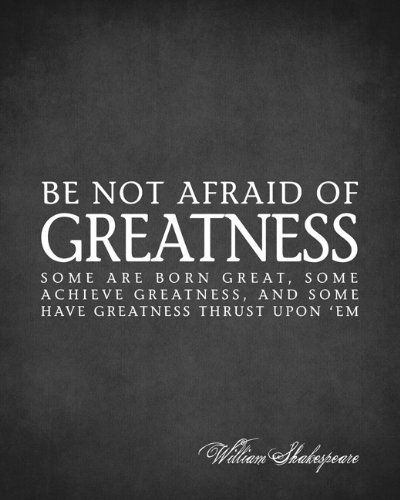latin: (39, 211, 360, 266), (39, 269, 361, 320), (40, 177, 360, 207)
